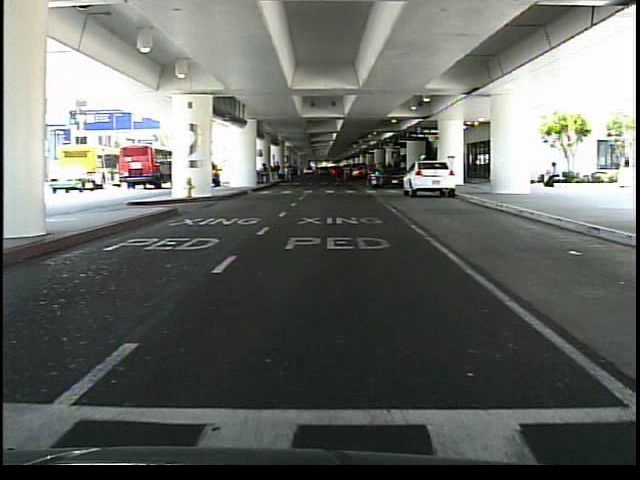person: (537, 156, 565, 193)
